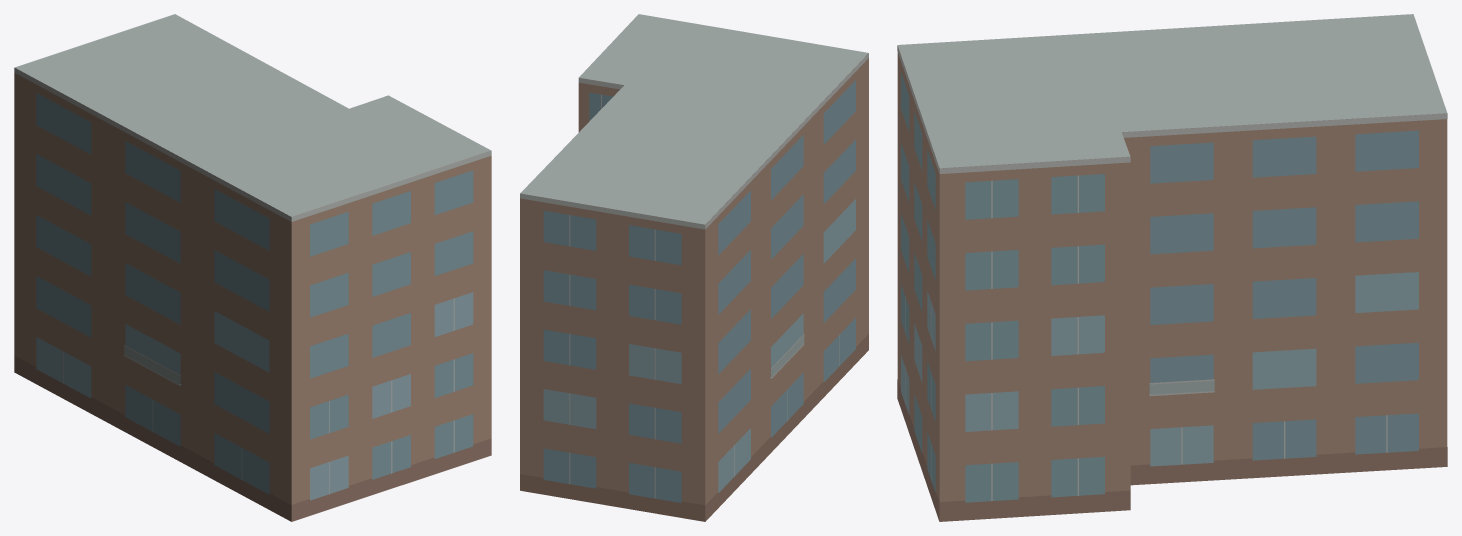
File: survey-upis-32715194.glb
3 views of the same model, side by side, from view 1: azimuth 30°, elevation 25°; view 2: azimuth 150°, elevation 25°; view 3: azimuth 270°, elevation 25° (orthographic). The views are drawn at different scales.
Parts seen in each view (by area): view 1: survey-upis-32715194.tmp; view 2: survey-upis-32715194.tmp; view 3: survey-upis-32715194.tmp.
Part boxes in pixels (x1=…): survey-upis-32715194.tmp: x1=14, y1=14, x2=491, y2=521; survey-upis-32715194.tmp: x1=520, y1=14, x2=868, y2=521; survey-upis-32715194.tmp: x1=897, y1=14, x2=1447, y2=521.
Bounding box in the file's own units: 13.82 × 14.75 × 20.81.
